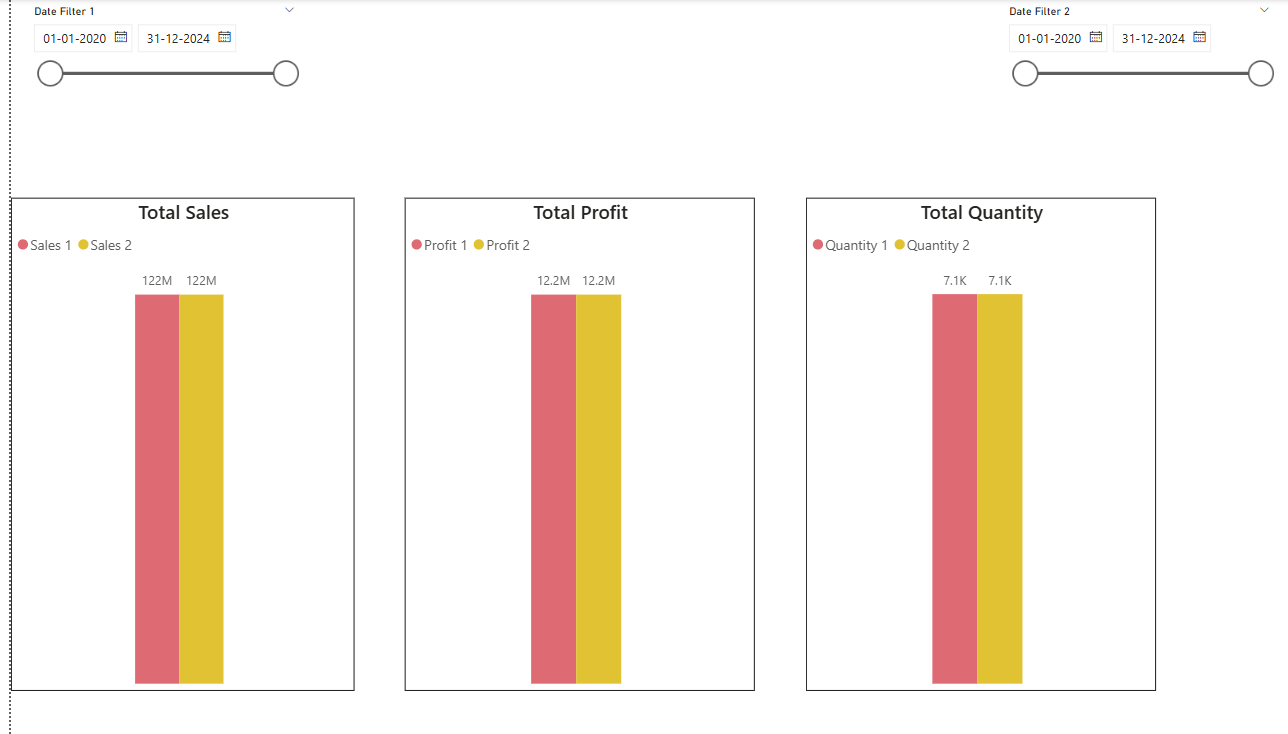

This screenshot's page, from the dashboard's own definition file:
{"tool":"powerbi","page":{"name":"Comparison Sales/Profit/Quantity","canvas":[1280,720],"ordinal":2},"visuals":[{"type":"slicer","fields":{"Values":["Date Table 1.Date"]},"box":[10,0,280,118.8],"z":0},{"type":"slicer","fields":{"Values":["Date Table 2.Date"]},"box":[963.8,0,280,107.5],"z":1000},{"type":"clusteredColumnChart","title":"Total Sales","fields":{"Y":["Sum(Fact Table.Net Sales)","Date Table 1.Sum of Net Sales"]},"box":[0,195,336.2,482.5],"z":2000},{"type":"clusteredColumnChart","title":"Total Profit","fields":{"Y":["Sum(Fact Table.Profit)","Measues.Total Profit"]},"box":[385,195,342.5,482.5],"z":3000},{"type":"clusteredColumnChart","title":"Total Quantity","fields":{"Y":["Sum(Fact Table.Units Sold)","Measues.Quantity Sold"]},"box":[777.5,195,342.5,482.5],"z":4000}]}

Visuals, with their boxes in screenshot pixels (x1, y1, x2, y2), scaled from the page's 1280x720 canvas onto the 1288x734 screenshot:
slicer - Date Table 1.Date: 10 0 292 121
slicer - Date Table 2.Date: 970 0 1252 110
"Total Sales" clusteredColumnChart: 0 199 338 691
"Total Profit" clusteredColumnChart: 387 199 732 691
"Total Quantity" clusteredColumnChart: 782 199 1127 691
